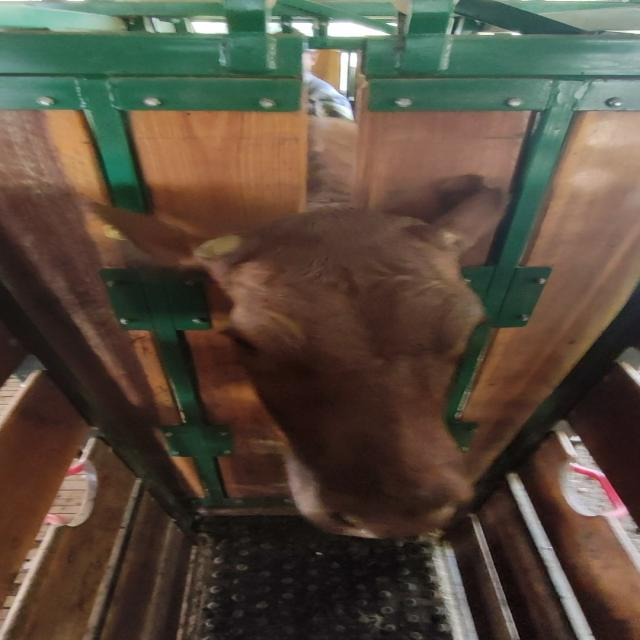cowFace: (231, 217, 486, 540)
